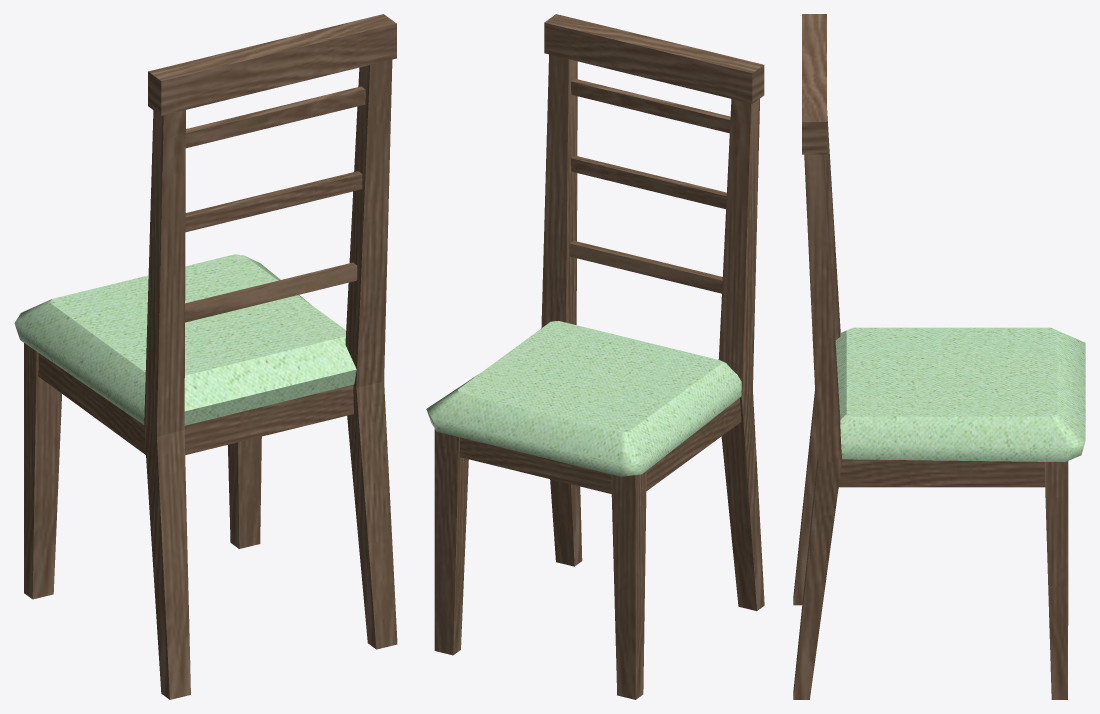
The model's file is FUR0210007.fbx.
3 renders of one model, left to right at view 1: azimuth 30°, elevation 25°; view 2: azimuth 150°, elevation 25°; view 3: azimuth 270°, elevation 25°, orthographic. The views are drawn at different scales.
Parts seen in each view (by area): view 1: smFUR0210007; view 2: smFUR0210007; view 3: smFUR0210007.
Boxes of the visible parts, box(x1,y1,x2,y2) form: smFUR0210007: box(14, 14, 397, 699); smFUR0210007: box(426, 14, 764, 699); smFUR0210007: box(793, 14, 1085, 699).
Size of the model in its own units: 60.8 by 146 by 66.48.
Materials: 1 (1 with a texture image).
